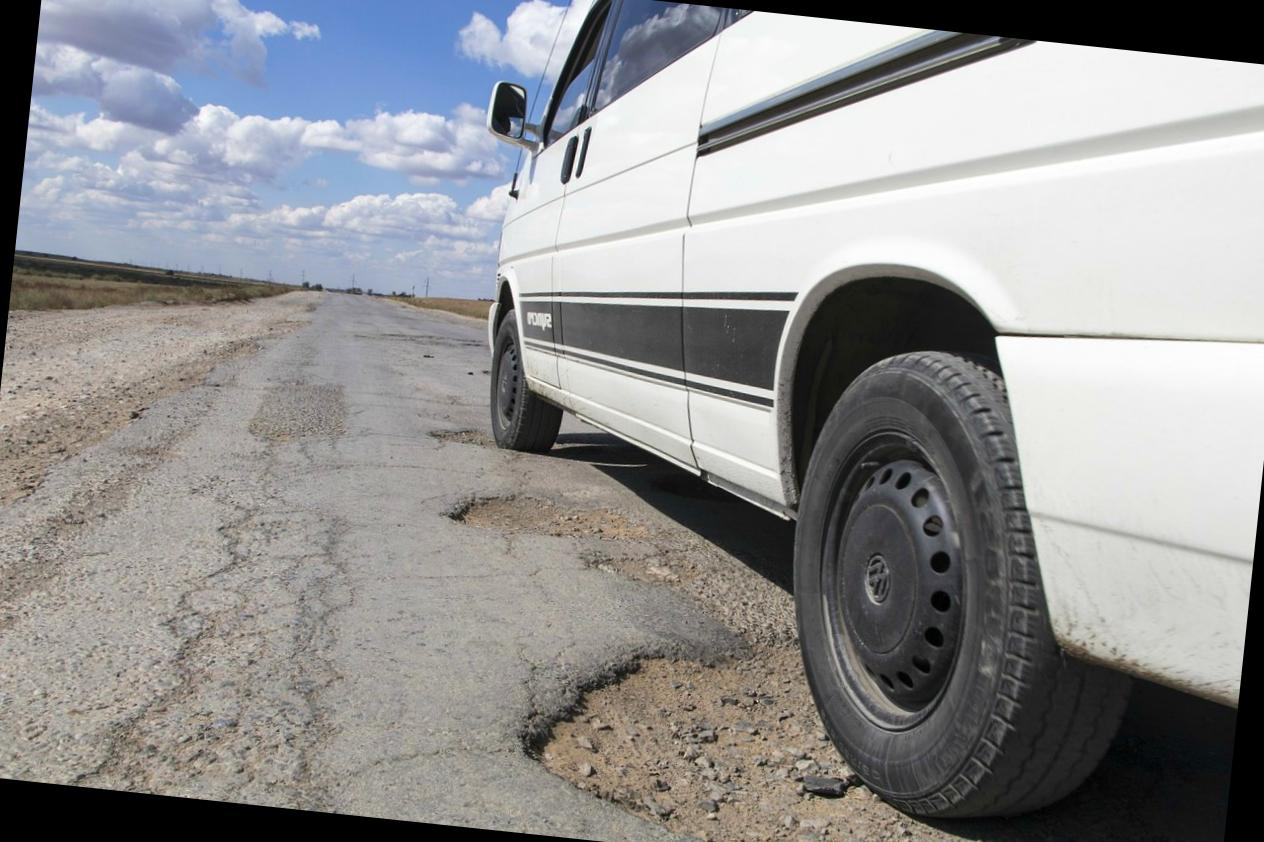pothole: (469, 593, 1095, 842), (422, 473, 706, 582), (398, 405, 551, 481), (343, 314, 489, 372)
